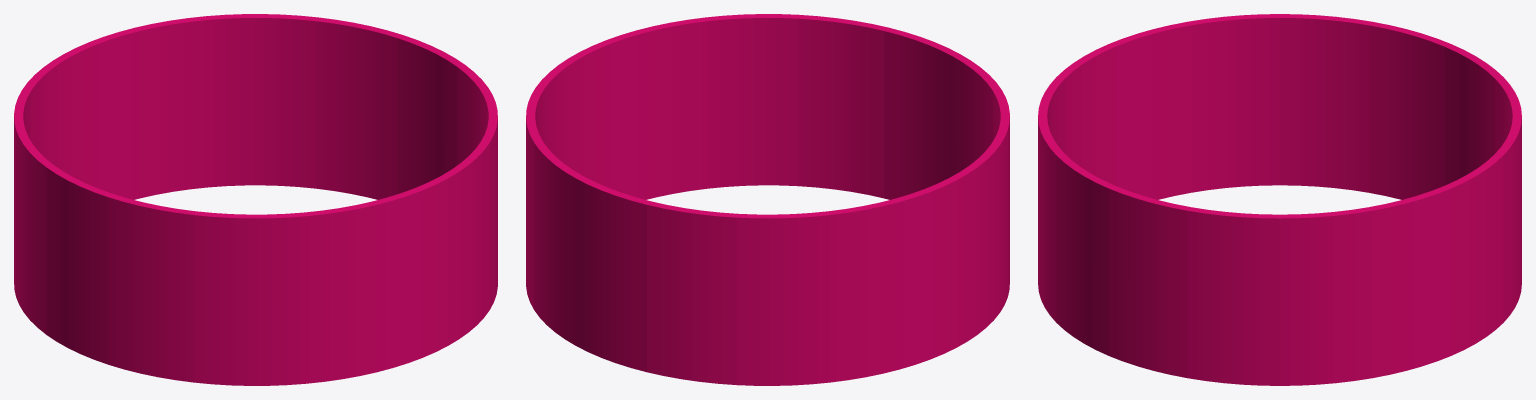
Rendered from Tower_Wall_04.fbx.
3 views of the same model, side by side, from view 1: azimuth 30°, elevation 25°; view 2: azimuth 150°, elevation 25°; view 3: azimuth 270°, elevation 25° (orthographic).
Visible parts, largest first — view 1: Tower_Wall_04; view 2: Tower_Wall_04; view 3: Tower_Wall_04.
Boxes of the visible parts, bbox=[...] form: Tower_Wall_04: bbox=[14, 14, 497, 385]; Tower_Wall_04: bbox=[526, 14, 1009, 385]; Tower_Wall_04: bbox=[1038, 14, 1521, 385].
Bounding box in the file's own units: 1571 × 600 × 1571.
